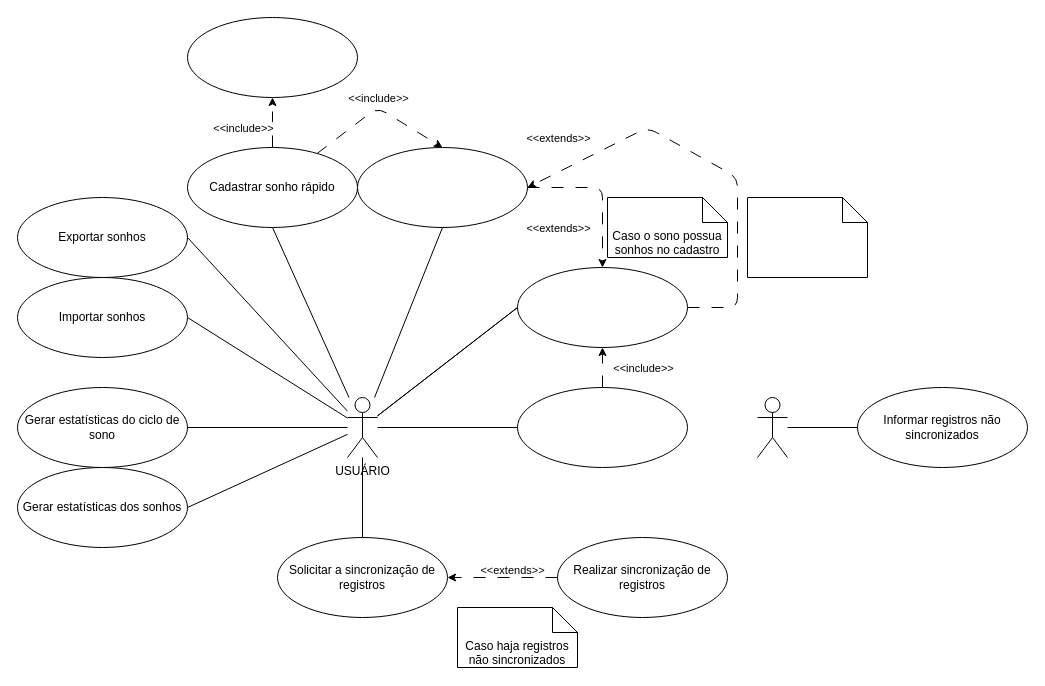
The diagram is 1045 pixels wide and 686 high, and some of its shapes have lost their labels. The shapes that lost their labels are listed below. From the top down, each one's centre as x and y in pixels, then its label:
At point 272,57: "Transcrever áudio".
At point 442,187: "Cadastrar sonho".
At point 807,237: "Caso o sonho se refira a uma data sem sono cadastrado".
At point 602,307: "Cadastrar sono".
At point 602,427: "Cadastrar sono simples".
At point 772,427: "MOBILE".
